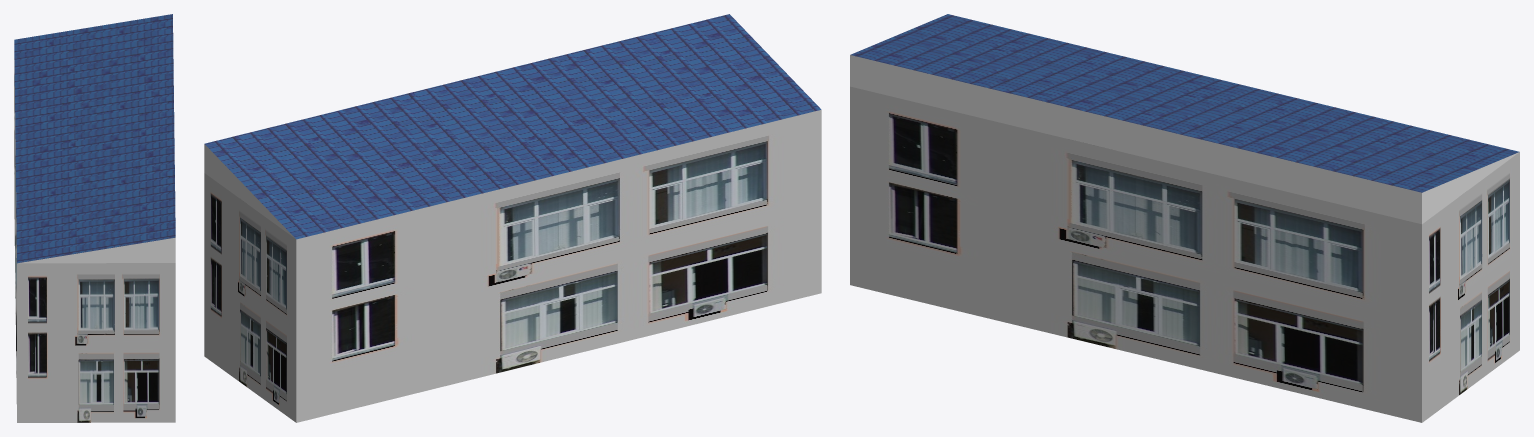
The picture shows the model from 3 angles, left to right: view 1: azimuth 30°, elevation 25°; view 2: azimuth 150°, elevation 25°; view 3: azimuth 270°, elevation 25°; orthographic projection. The views are drawn at different scales.
Visible parts, largest first — view 1: CityEngineMaterial_10_m, CityEngineMaterial_9_m, CityEngineMaterial_3_m; view 2: CityEngineMaterial_9_m, CityEngineMaterial_10_m, CityEngineMaterial_3_m; view 3: CityEngineMaterial_9_m, CityEngineMaterial_10_m, CityEngineMaterial_3_m.
Part boxes in pixels (x1,y1,x2,y2): CityEngineMaterial_10_m: [14, 14, 175, 263]; CityEngineMaterial_9_m: [14, 60, 175, 422]; CityEngineMaterial_3_m: [18, 237, 175, 263]; CityEngineMaterial_9_m: [204, 110, 821, 422]; CityEngineMaterial_10_m: [204, 14, 821, 239]; CityEngineMaterial_3_m: [204, 144, 294, 237]; CityEngineMaterial_9_m: [850, 86, 1519, 422]; CityEngineMaterial_10_m: [850, 14, 1519, 192]; CityEngineMaterial_3_m: [850, 55, 1518, 224].
Bounding box in the file's own units: 22.61 × 11.54 × 30.43.
